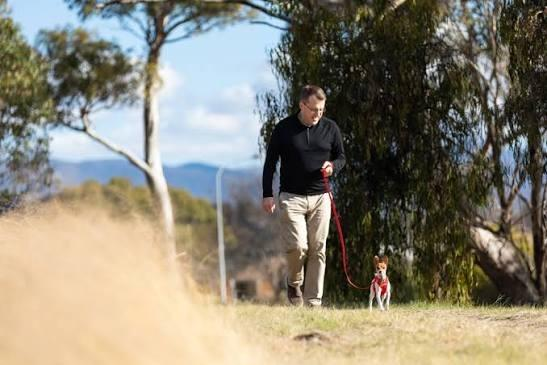adult_dog: (368, 251, 392, 312)
non-dog: (260, 85, 347, 309)
